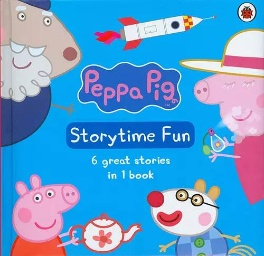Peppa: (9, 173, 82, 256)
